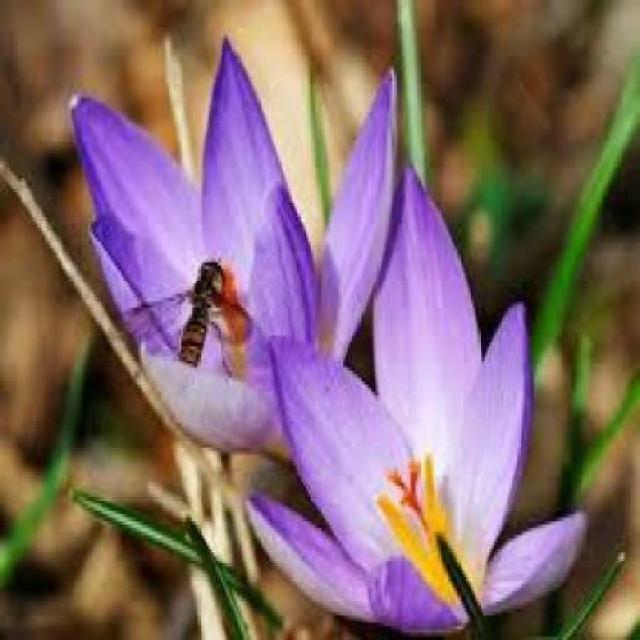saffron open: (249, 170, 586, 632), (72, 40, 395, 450)
